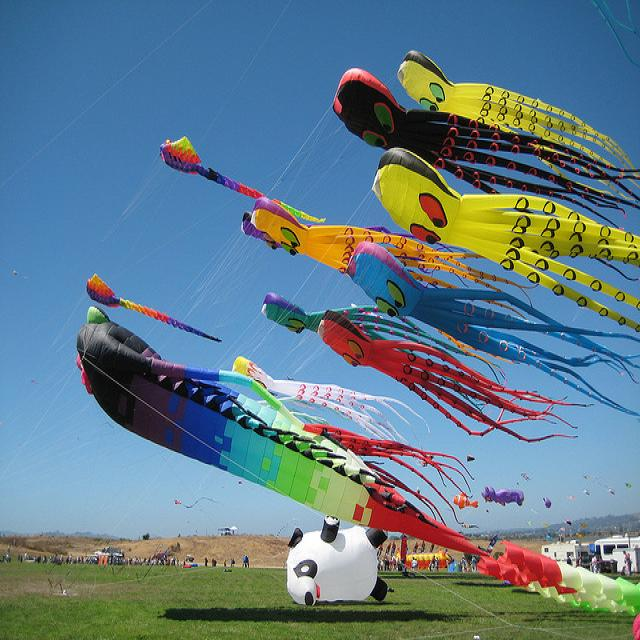Vehicle: (541, 542, 581, 566)
